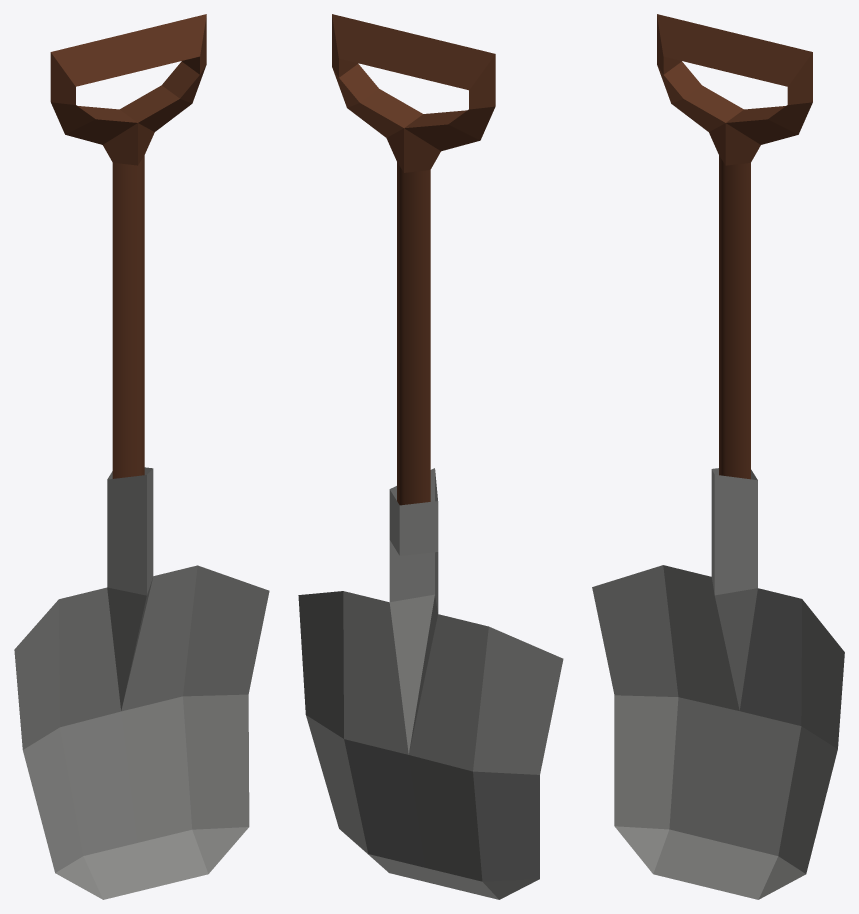
The model's file is shovel.FBX.
3 renders of one model, left to right at view 1: azimuth 30°, elevation 25°; view 2: azimuth 150°, elevation 25°; view 3: azimuth 330°, elevation 25°, orthographic. The views are drawn at different scales.
Parts seen in each view (by area): view 1: shovel003, shovel02; view 2: shovel003, shovel02; view 3: shovel003, shovel02.
Boxes of the visible parts, <box> form: shovel003: <box>14,467,269,899</box>; shovel02: <box>50,14,206,478</box>; shovel003: <box>298,468,563,899</box>; shovel02: <box>332,14,495,505</box>; shovel003: <box>592,468,844,899</box>; shovel02: <box>657,14,812,479</box>.
Size of the model in its own units: 423 by 1326 by 117.
